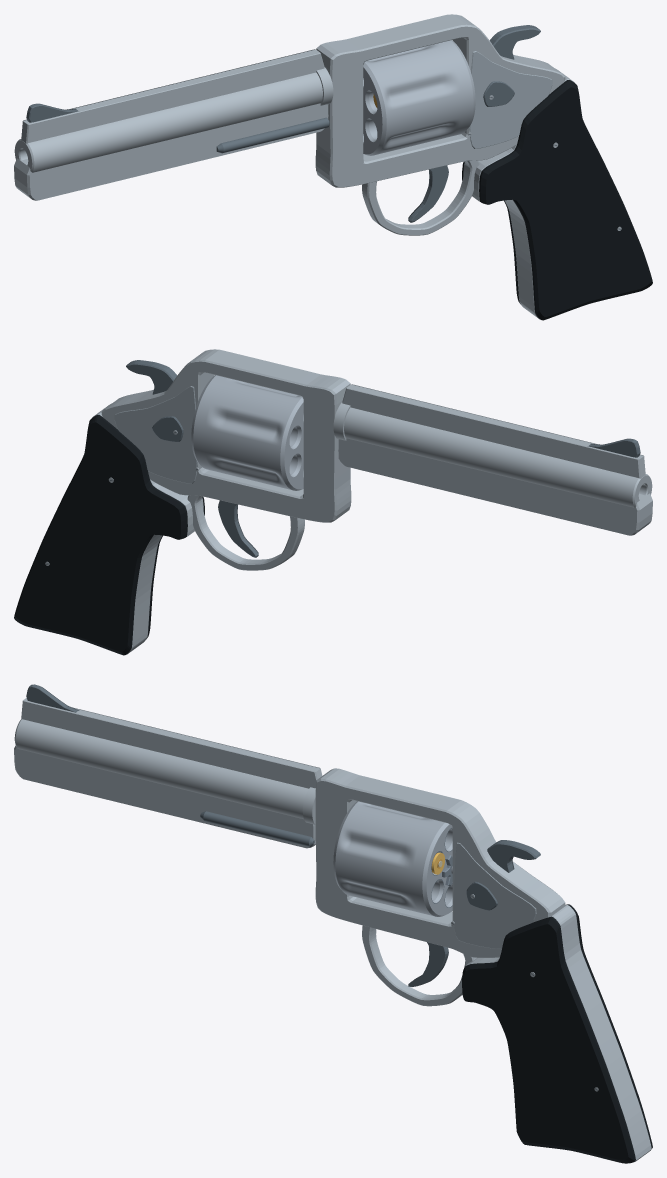
File: revolver_assembled_v01.glb
3 views of the same model, one above another, from view 1: azimuth 30°, elevation 25°; view 2: azimuth 150°, elevation 25°; view 3: azimuth 330°, elevation 25° (orthographic).
Visible parts, largest first — view 1: BlackRoundedGrip, OpenCylinderFrame, SixBoreSteelDrum, HollowRoundBarrel, FullLengthLowerShroud, UpperBarrelRib, RearSidePlate, OpenCurvedTriggerGuard, CurvedGripFrame, RecessedEjectorRod, CurvedTrigger, ExposedCurvedHammer (+2 smaller); view 2: BlackRoundedGrip, OpenCylinderFrame, SixBoreSteelDrum, HollowRoundBarrel, FullLengthLowerShroud, UpperBarrelRib, RearSidePlate, OpenCurvedTriggerGuard, CurvedGripFrame, CurvedTrigger, ExposedCurvedHammer, CylinderReleaseLatch (+1 smaller); view 3: BlackRoundedGrip, OpenCylinderFrame, SixBoreSteelDrum, HollowRoundBarrel, FullLengthLowerShroud, UpperBarrelRib, CurvedGripFrame, RearSidePlate, OpenCurvedTriggerGuard, RecessedEjectorRod, ExposedCurvedHammer, CurvedTrigger.
Boxes of the visible parts, bbox=[...] form: BlackRoundedGrip: bbox=[462, 80, 652, 320]; OpenCylinderFrame: bbox=[315, 14, 565, 187]; SixBoreSteelDrum: bbox=[363, 40, 475, 155]; HollowRoundBarrel: bbox=[14, 72, 322, 172]; FullLengthLowerShroud: bbox=[14, 103, 328, 200]; UpperBarrelRib: bbox=[21, 49, 324, 143]; RearSidePlate: bbox=[469, 51, 552, 148]; OpenCurvedTriggerGuard: bbox=[362, 160, 479, 235]; CurvedGripFrame: bbox=[463, 68, 574, 319]; RecessedEjectorRod: bbox=[216, 117, 329, 153]; CurvedTrigger: bbox=[408, 165, 448, 222]; ExposedCurvedHammer: bbox=[490, 25, 540, 59]; BlackRoundedGrip: bbox=[14, 415, 204, 655]; OpenCylinderFrame: bbox=[101, 349, 351, 522]; SixBoreSteelDrum: bbox=[191, 375, 303, 490]; HollowRoundBarrel: bbox=[344, 407, 652, 507]; FullLengthLowerShroud: bbox=[338, 438, 652, 535]; UpperBarrelRib: bbox=[342, 384, 645, 478]; RearSidePlate: bbox=[114, 386, 197, 483]; OpenCurvedTriggerGuard: bbox=[187, 495, 304, 570]; CurvedGripFrame: bbox=[92, 403, 203, 654]; CurvedTrigger: bbox=[218, 500, 258, 557]; ExposedCurvedHammer: bbox=[126, 360, 176, 394]; CylinderReleaseLatch: bbox=[152, 416, 183, 441]; BlackRoundedGrip: bbox=[462, 904, 652, 1163]; OpenCylinderFrame: bbox=[315, 768, 565, 957]; SixBoreSteelDrum: bbox=[333, 801, 452, 916]; HollowRoundBarrel: bbox=[14, 719, 315, 819]; FullLengthLowerShroud: bbox=[14, 745, 315, 848]; UpperBarrelRib: bbox=[21, 698, 322, 788]; CurvedGripFrame: bbox=[466, 905, 651, 1162]; RearSidePlate: bbox=[453, 842, 536, 948]; OpenCurvedTriggerGuard: bbox=[362, 925, 476, 1006]; RecessedEjectorRod: bbox=[200, 811, 314, 846]; ExposedCurvedHammer: bbox=[487, 840, 540, 872]; CurvedTrigger: bbox=[408, 942, 448, 986].
Size of the model in its own units: 14.47 by 7.34 by 2.06.
